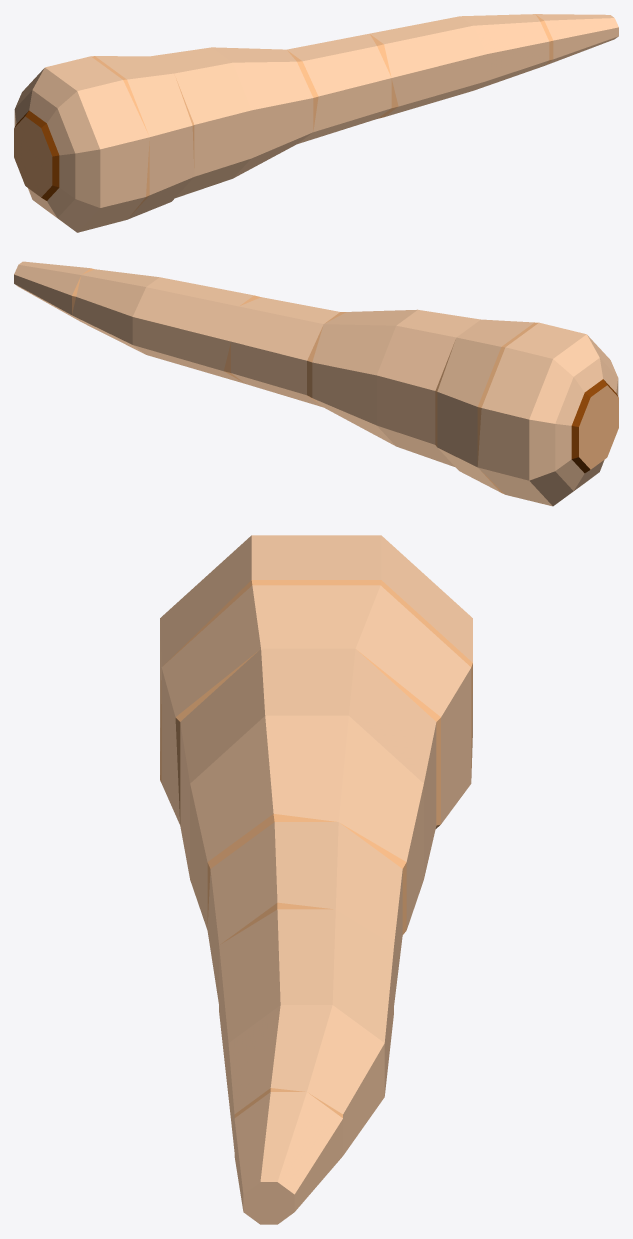
Rendered from parsnip01.gltf.
The picture shows the model from 3 angles, top to bottom: view 1: azimuth 30°, elevation 25°; view 2: azimuth 150°, elevation 25°; view 3: azimuth 270°, elevation 25°; orthographic projection. The views are drawn at different scales.
Visible parts, largest first — view 1: Cylinder.001; view 2: Cylinder.001; view 3: Cylinder.001.
Part boxes in pixels (x1,y1,x2,y2): Cylinder.001: [14, 14, 618, 232]; Cylinder.001: [14, 261, 618, 506]; Cylinder.001: [160, 535, 472, 1224].
Bounding box in the file's own units: 0.1611 × 0.0385 × 0.0385.
1 material, 1 textured.
